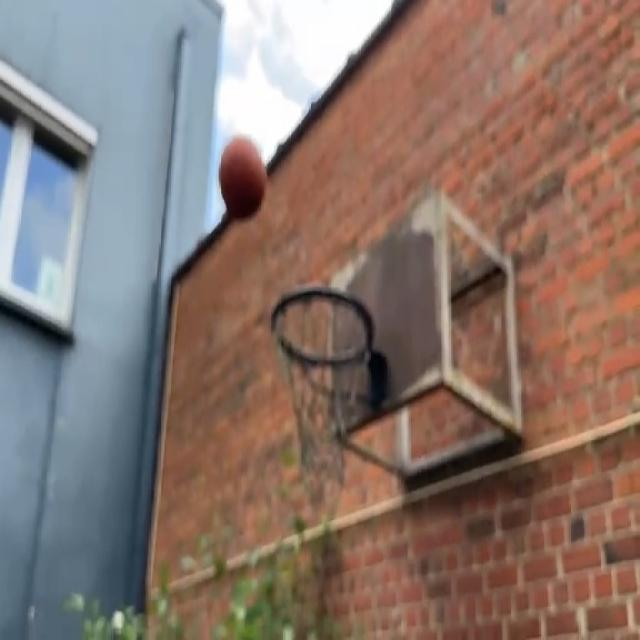Basketball: (219, 136, 267, 220)
